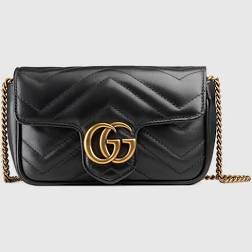Gucci: (4, 63, 223, 207), (40, 74, 200, 116), (82, 111, 135, 166)
